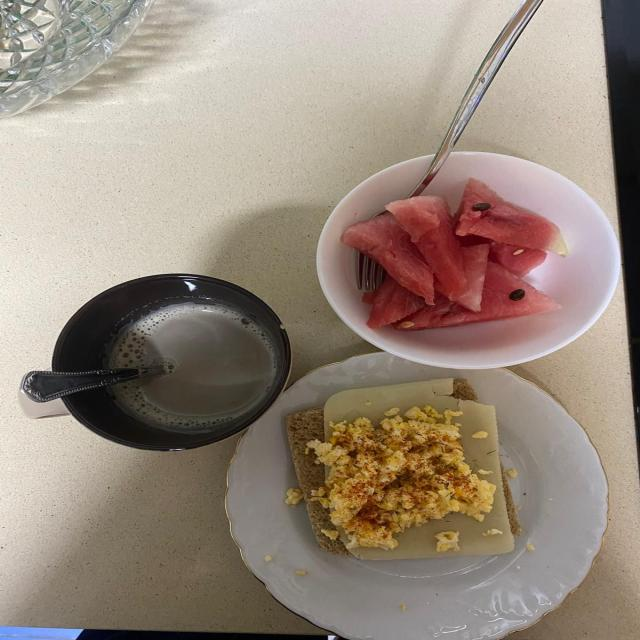bowl: (316, 152, 620, 370)
bread: (286, 407, 350, 555), (503, 480, 519, 534), (455, 380, 476, 400)
cheese: (323, 378, 514, 560)
coffee: (109, 305, 274, 432)
coffee cup: (19, 274, 291, 451)
fork: (406, 0, 542, 198), (357, 251, 386, 291)
plate: (226, 353, 607, 640)
scrambled eggs: (306, 406, 495, 550)
watermelon: (341, 179, 565, 329)
